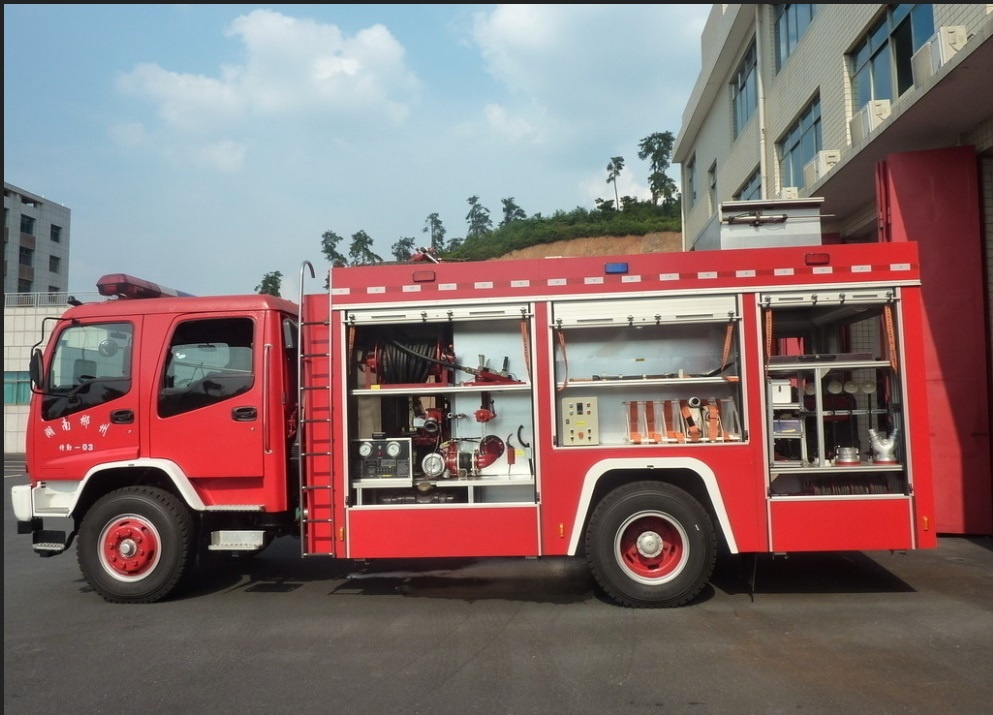fire engine: (14, 227, 968, 608)
